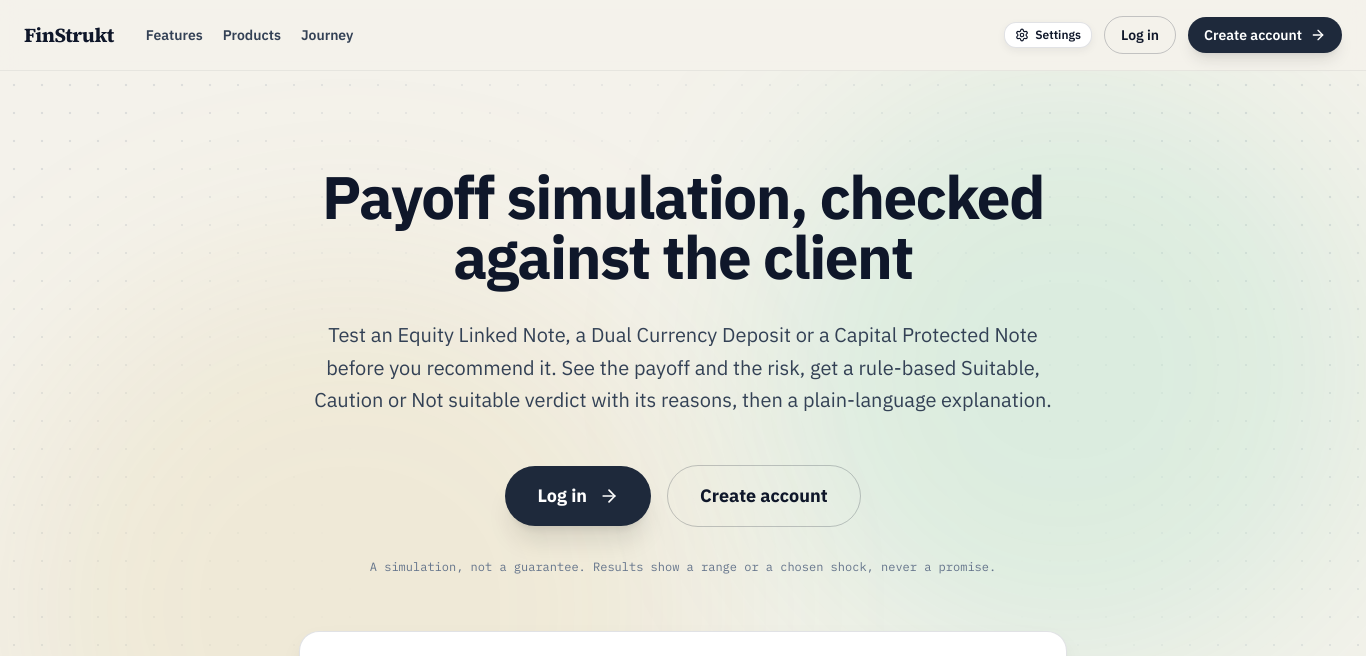
Test: signing in › shows the server error for a wrong password and stays on the sign-in page
Click the button "Log in" in the row of "Products" at point(1140, 35), box [1104,16,1176,54]
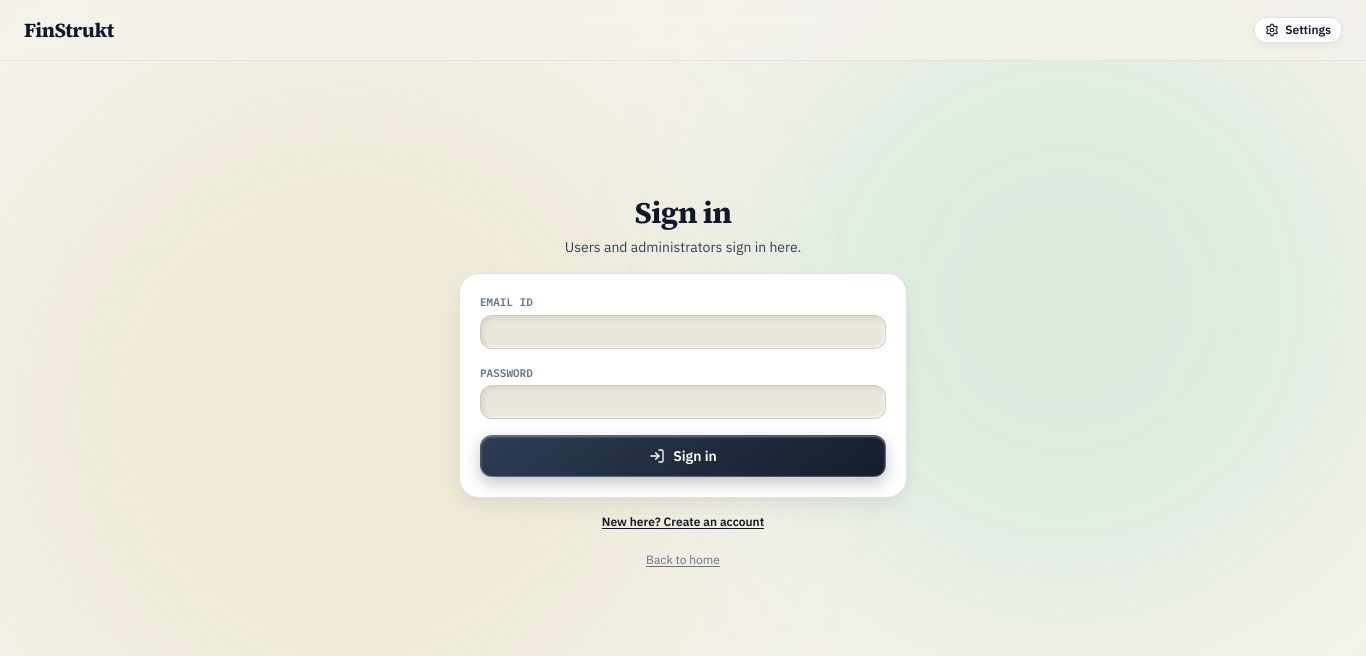
Now the heading "Sign in" is shown, box [635,192,731,233]
Type "rm@bank.test" into the field labelled "Email id" at point(683, 332), box [480,314,886,348]
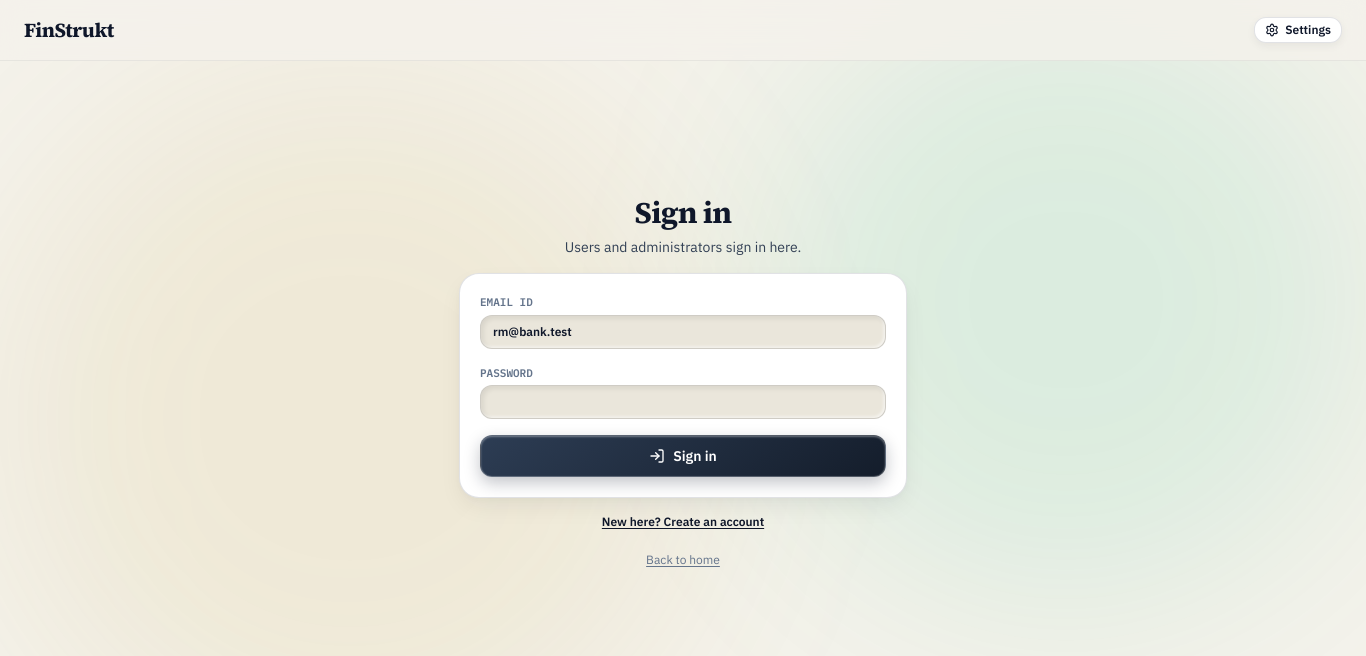
Type "Wrong-Passw0rd" into the password field labelled "Password" at point(683, 402), box [480,385,886,419]
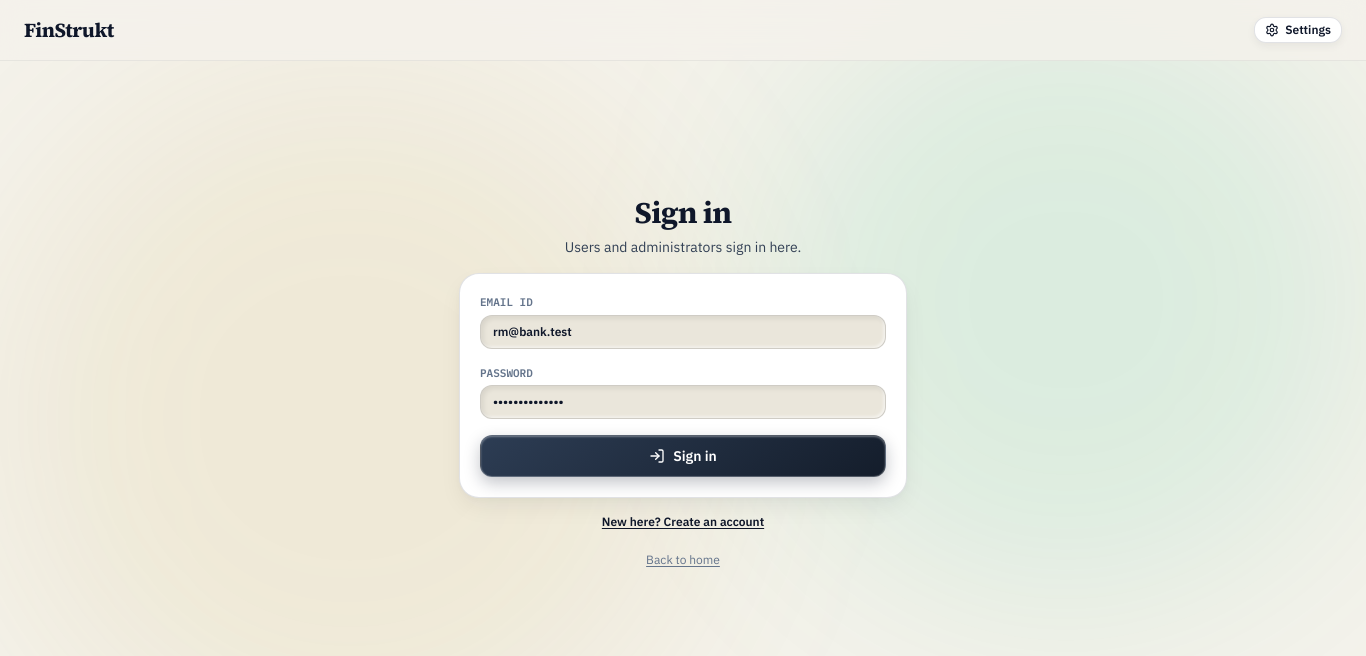
Click the button "Sign in" at point(683, 456), box [480,435,886,477]
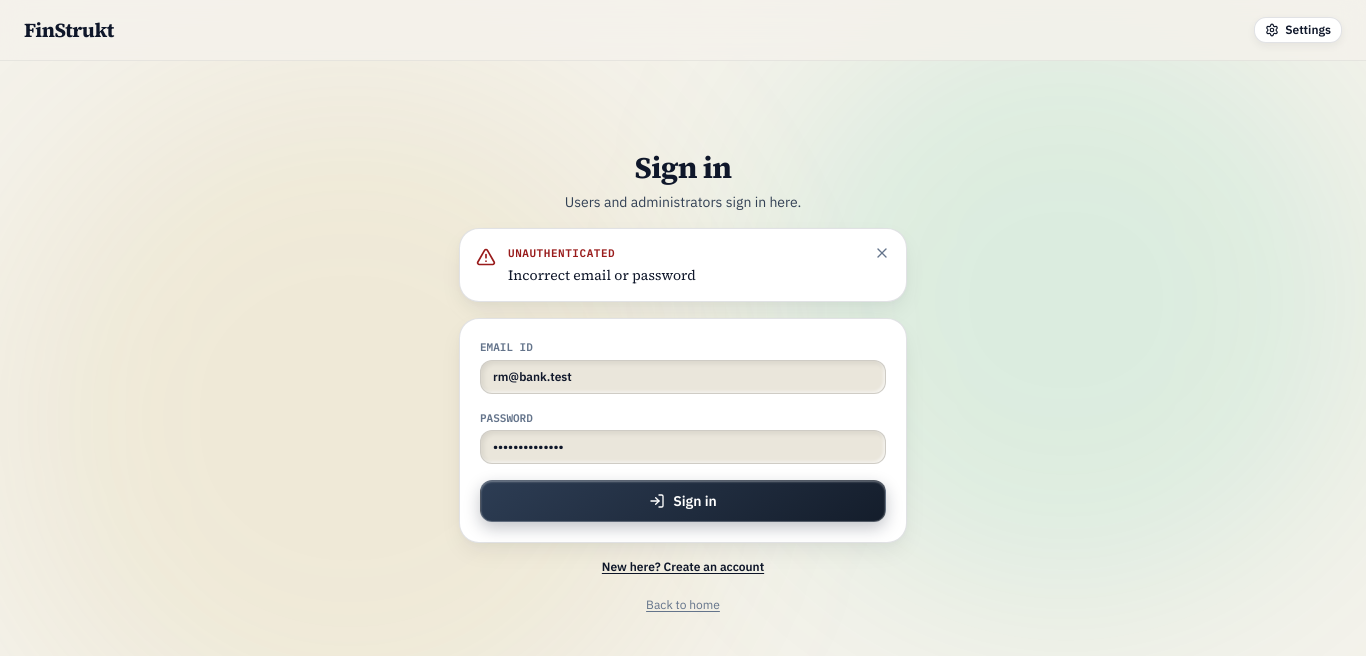
Now the heading "Sign in" is shown, box [635,147,731,188]
Now the text "Incorrect email or password" is shown, box [508,265,696,285]
